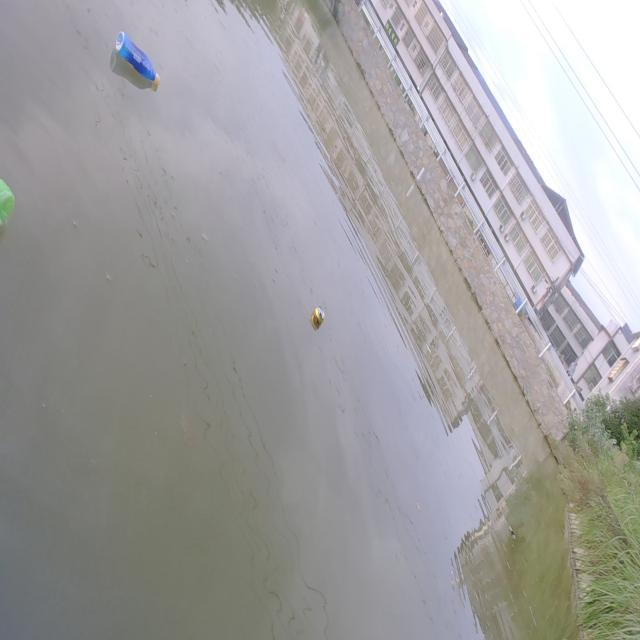garbage: (110, 30, 161, 93)
